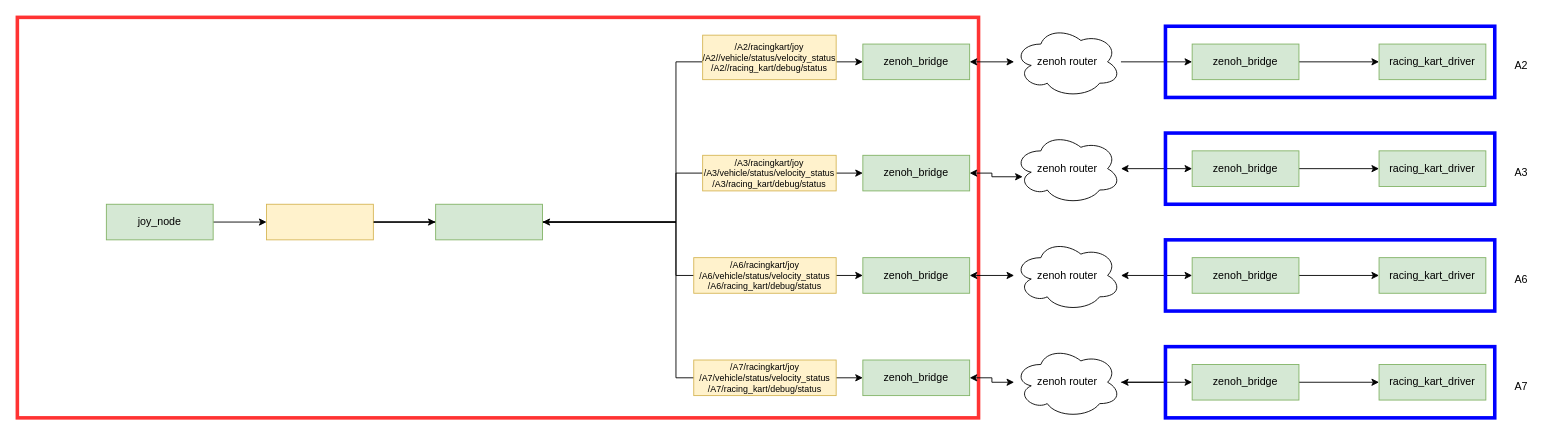
The diagram is 1563 pixels wide and 434 high, and some of its shapes have lost their labels. The box of each missing label's shape, as (x1, y1, x2, y2) in pixels:
/racingkart/joy: (266, 203, 373, 240)
racingkarts_manager: (435, 203, 542, 240)
